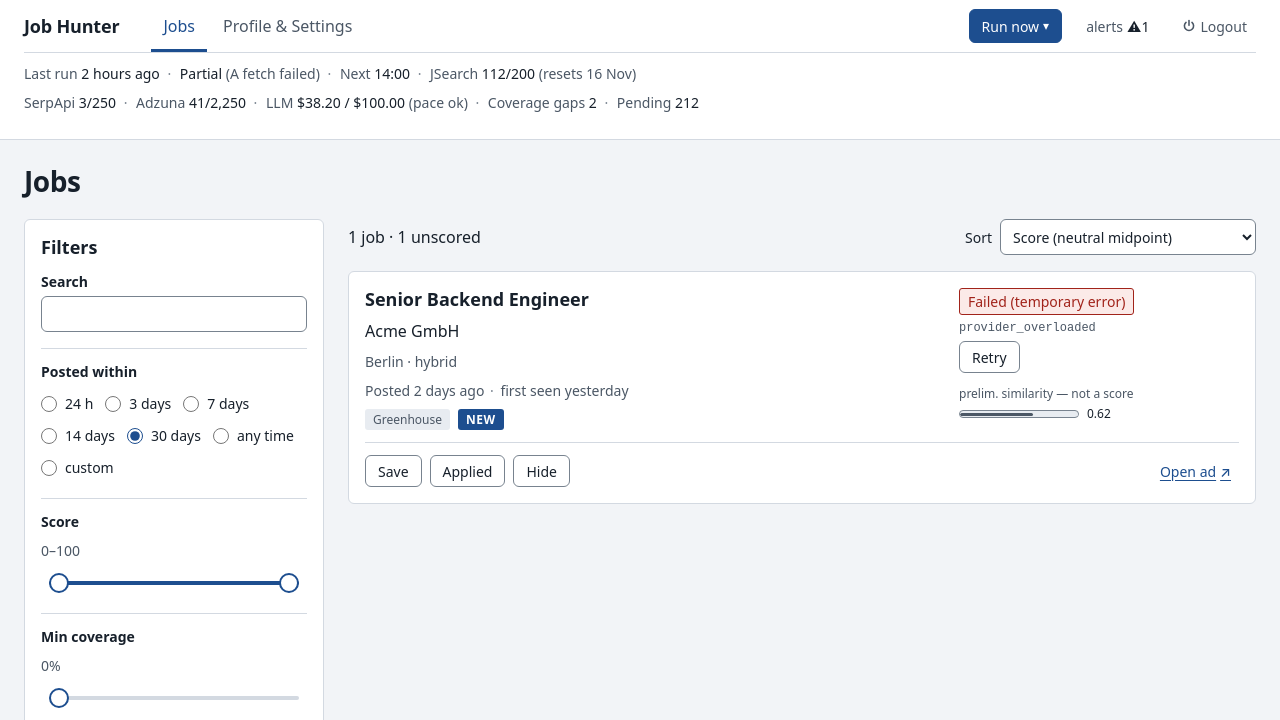
Test: the score or the chip › failed chip Retry sends a keyed retry
Later steps or results of the test are not shown.
expect the text "Failed (temporary error)" is shown: met, box [959,288,1134,315]
Step 1. Click the button "Retry" → coordinates (989, 357), box [959,341,1020,373]
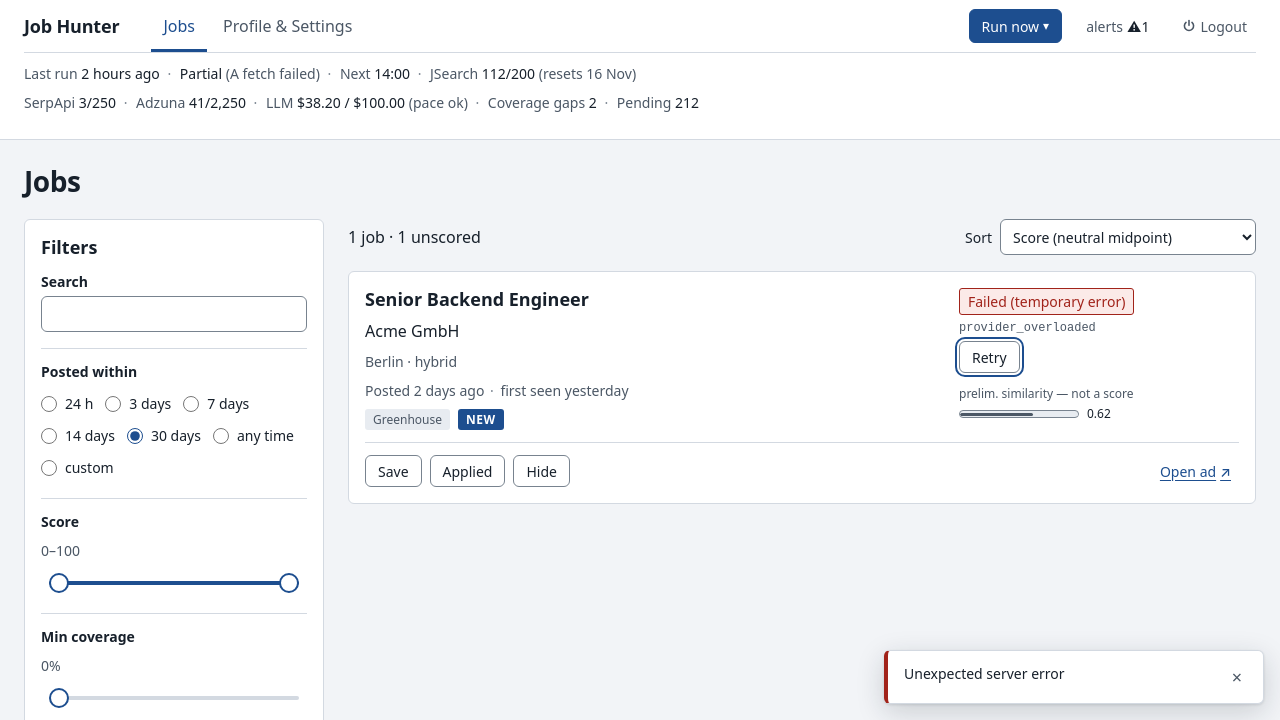
expect the text "Unexpected server error" is shown: met, box [904,664,1065,683]
